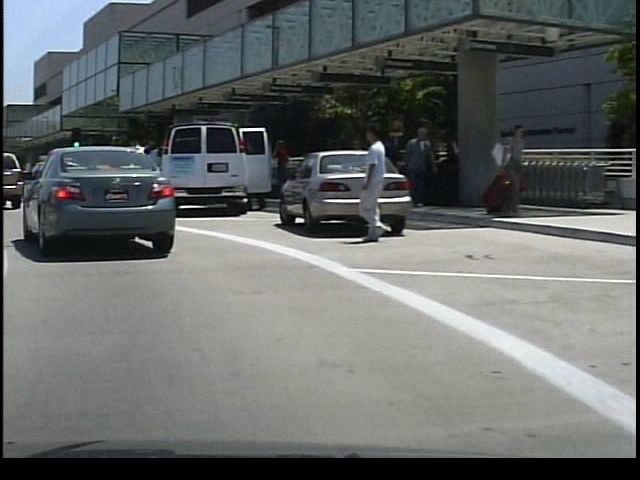person: (348, 119, 392, 245), (486, 118, 523, 216), (407, 123, 432, 207), (267, 135, 291, 202)
